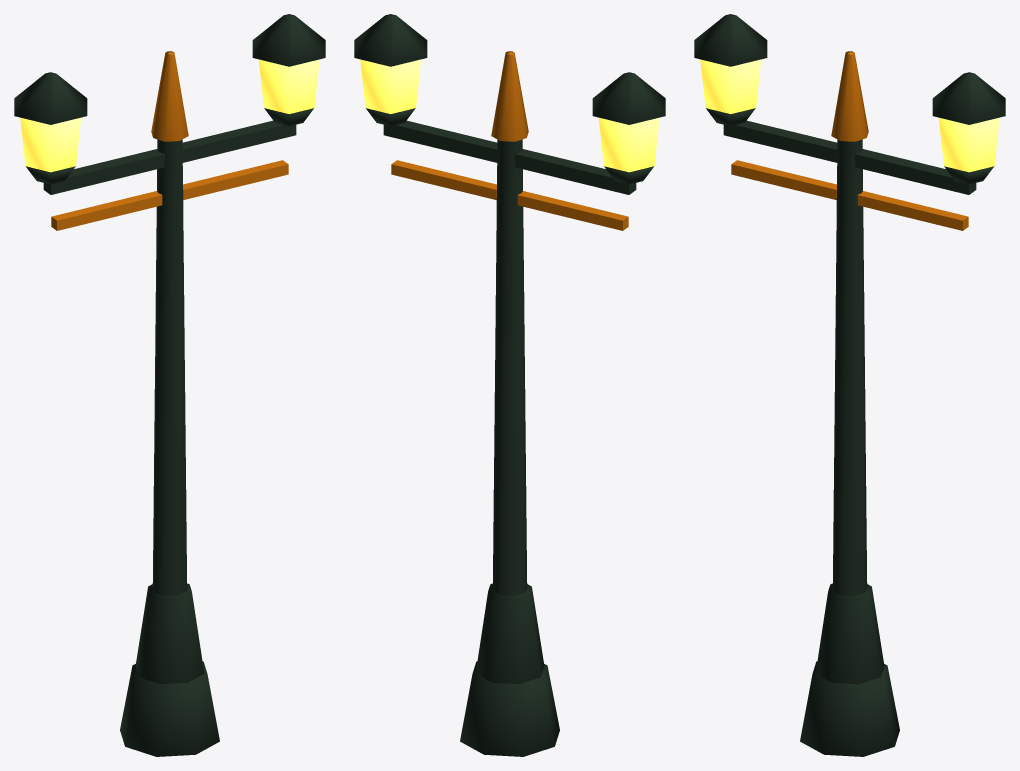
File: prop_04_dalat_vintage_street_lamp.glb
3 views of the same model, side by side, from view 1: azimuth 30°, elevation 25°; view 2: azimuth 150°, elevation 25°; view 3: azimuth 330°, elevation 25° (orthographic).
Parts seen in each view (by area): view 1: post_shaft, base_plinth_1, base_plinth_2, cross_arm_bar, lantern_cap_0.85, lantern_cap_-0.85, lantern_glass_0.85, lantern_glass_-0.85, post_finial, scroll_brace_l, scroll_brace_r; view 2: post_shaft, base_plinth_1, base_plinth_2, cross_arm_bar, lantern_cap_0.85, lantern_cap_-0.85, lantern_glass_0.85, lantern_glass_-0.85, post_finial, scroll_brace_l, scroll_brace_r; view 3: post_shaft, base_plinth_1, base_plinth_2, cross_arm_bar, lantern_cap_-0.85, lantern_cap_0.85, lantern_glass_-0.85, lantern_glass_0.85, post_finial, scroll_brace_r, scroll_brace_l.
Boxes of the visible parts, <box> form: post_shaft: <box>152,139,187,596</box>; base_plinth_1: <box>120,661,219,756</box>; base_plinth_2: <box>135,583,204,684</box>; cross_arm_bar: <box>43,120,296,194</box>; lantern_cap_0.85: <box>252,14,325,66</box>; lantern_cap_-0.85: <box>14,72,87,124</box>; lantern_glass_0.85: <box>258,59,319,113</box>; lantern_glass_-0.85: <box>20,117,81,172</box>; post_finial: <box>151,51,188,141</box>; scroll_brace_l: <box>51,191,162,230</box>; scroll_brace_r: <box>183,160,288,199</box>; post_shaft: <box>492,139,527,596</box>; base_plinth_1: <box>460,661,559,756</box>; base_plinth_2: <box>475,583,544,684</box>; cross_arm_bar: <box>383,120,636,194</box>; lantern_cap_0.85: <box>354,14,427,66</box>; lantern_cap_-0.85: <box>592,72,665,124</box>; lantern_glass_0.85: <box>360,59,421,113</box>; lantern_glass_-0.85: <box>598,117,659,172</box>; post_finial: <box>491,51,528,141</box>; scroll_brace_l: <box>517,191,628,230</box>; scroll_brace_r: <box>391,160,496,199</box>; post_shaft: <box>832,139,867,596</box>; base_plinth_1: <box>800,661,899,756</box>; base_plinth_2: <box>815,583,884,684</box>; cross_arm_bar: <box>723,120,976,194</box>; lantern_cap_-0.85: <box>694,14,767,66</box>; lantern_cap_0.85: <box>932,72,1005,124</box>; lantern_glass_-0.85: <box>700,59,761,113</box>; lantern_glass_0.85: <box>938,117,999,172</box>; post_finial: <box>831,51,868,141</box>; scroll_brace_r: <box>857,191,968,230</box>; scroll_brace_l: <box>731,160,836,199</box>.
Size of the model in its own units: 2.22 by 4.7 by 0.64.
